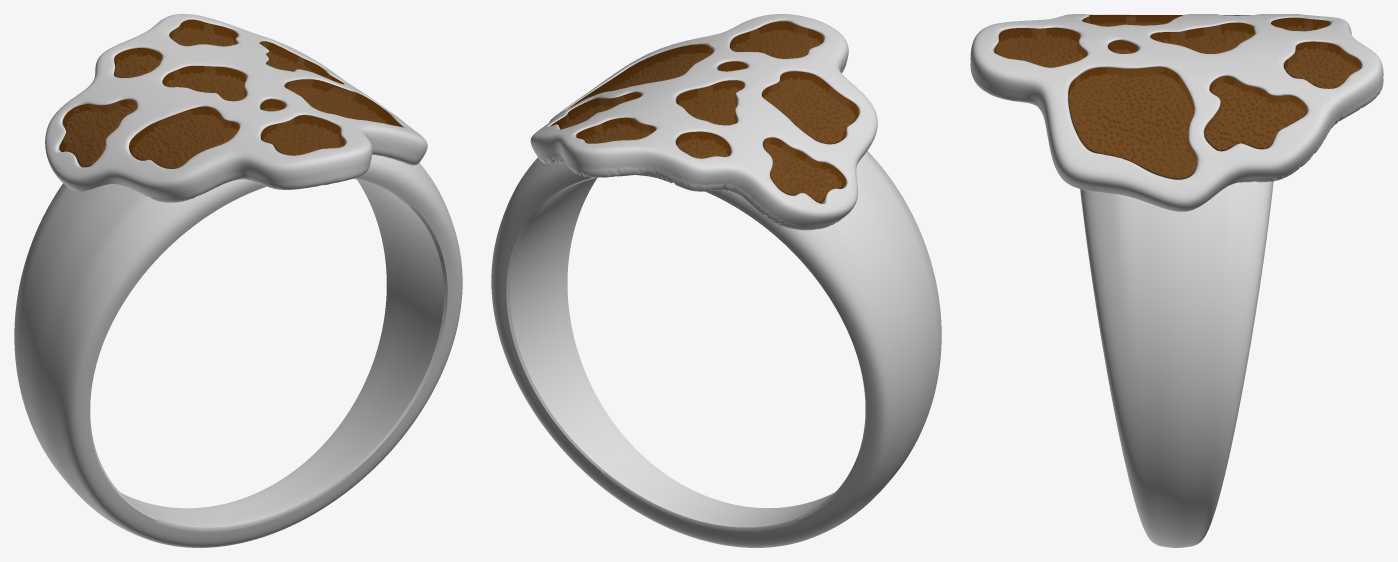
Rendered from NewRings.glb.
The picture shows the model from 3 angles, left to right: view 1: azimuth 30°, elevation 25°; view 2: azimuth 150°, elevation 25°; view 3: azimuth 270°, elevation 25°; orthographic projection. The views are drawn at different scales.
Parts seen in each view (by area): view 1: Cylinder006, Plane005, BézierCurve028; view 2: Cylinder006, Plane005, BézierCurve028; view 3: Cylinder006, Plane005, BézierCurve028.
Boxes of the visible parts, box(x1,y1,x2,y2) form: Cylinder006: box(14, 154, 462, 547); Plane005: box(45, 14, 427, 202); BézierCurve028: box(59, 19, 402, 168); Cylinder006: box(491, 151, 941, 547); Plane005: box(530, 14, 877, 230); BézierCurve028: box(550, 21, 858, 203); Cylinder006: box(1080, 181, 1273, 547); Plane005: box(970, 14, 1383, 211); BézierCurve028: box(994, 15, 1361, 179).
Size of the model in its own units: 20.54 by 21.7 by 16.76.
